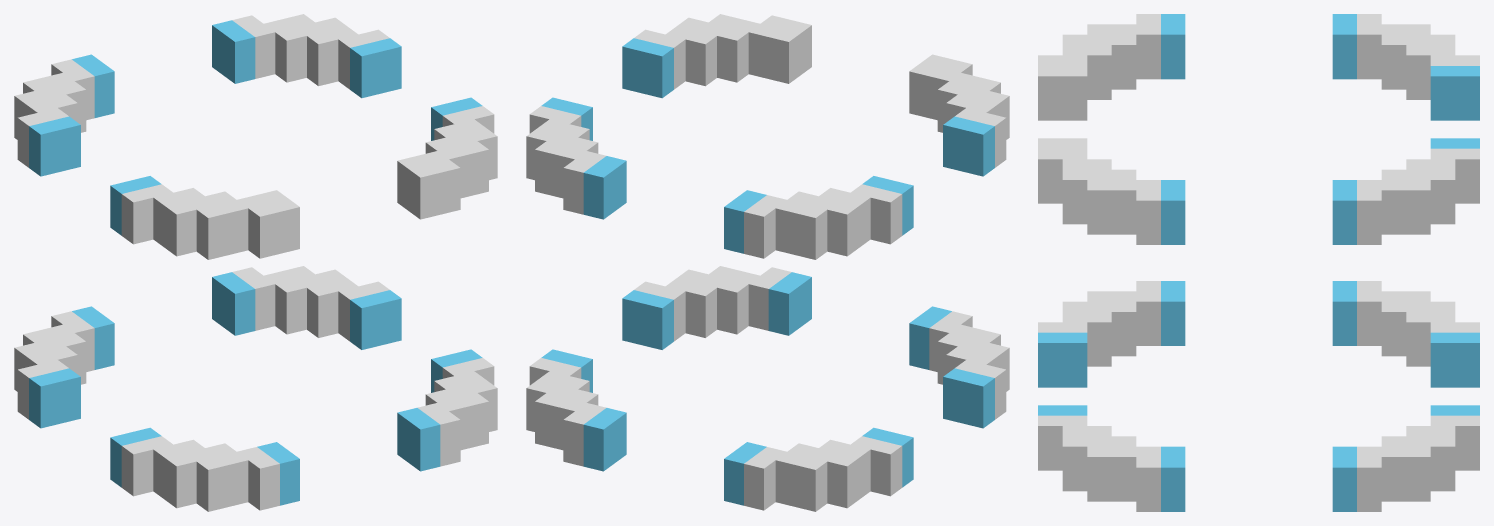
The model's file is Sanitizer-0-rotating_ring.obj.
3 views of the same model, side by side, from view 1: azimuth 30°, elevation 25°; view 2: azimuth 150°, elevation 25°; view 3: azimuth 270°, elevation 25° (orthographic). The views are drawn at different scales.
Parts seen in each view (by area): view 1: rotating_ring; view 2: rotating_ring; view 3: rotating_ring.
Boxes of the visible parts, bbox=[...] form: rotating_ring: bbox=[14, 14, 497, 511]; rotating_ring: bbox=[526, 14, 1009, 511]; rotating_ring: bbox=[1038, 14, 1479, 511].
Bounding box in the file's own units: 1.8 × 1.4 × 1.8.
1 material, 1 textured.
